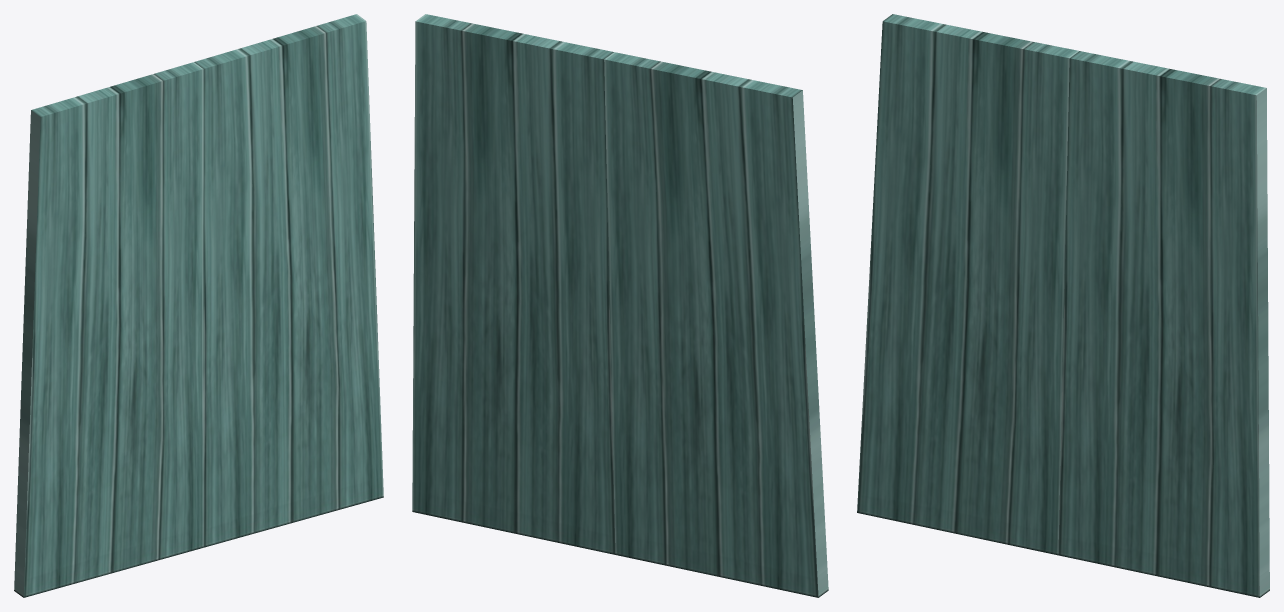
The model's file is pir_m_bld_spn_tavern_door.fbx.
The picture shows the model from 3 angles, left to right: view 1: azimuth 30°, elevation 25°; view 2: azimuth 150°, elevation 25°; view 3: azimuth 330°, elevation 25°; orthographic projection. The views are drawn at different scales.
Parts seen in each view (by area): view 1: door_left, door_right; view 2: door_left, door_right; view 3: door_right, door_left.
Part boxes in pixels (x1,y1,x2,y2): door_left: (14, 62, 203, 597); door_right: (194, 14, 383, 547); door_left: (604, 52, 828, 597); door_right: (412, 14, 615, 554); door_right: (1058, 51, 1269, 597); door_left: (857, 14, 1078, 555).
Bounding box in the file's own units: 855 × 1038 × 118.
Materials: 1 (1 with a texture image).
